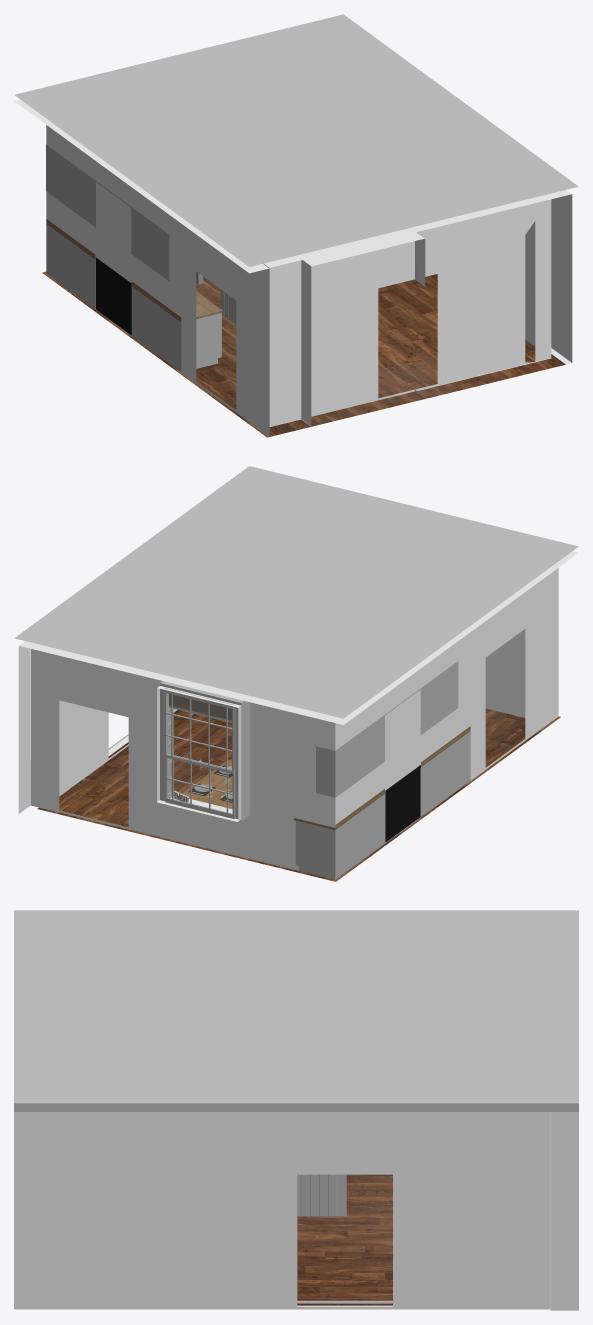
The model's file is big_house_kitchen.glb.
3 views of the same model, one above another, from view 1: azimuth 30°, elevation 25°; view 2: azimuth 150°, elevation 25°; view 3: azimuth 270°, elevation 25° (orthographic). The views are drawn at different scales.
Parts seen in each view (by area): view 1: 126_Ceiling, 127_Walls, 263_Walls, 125_Floor, 253_CupboardUnits, 262_CupboardUnits, 74_CupboardUnits, 70_CupboardUnits, 251_CookerBlack, 259_Worktops; view 2: 126_Ceiling, 263_Walls, 264_Walls, 125_Floor, 127_Walls, 262_CupboardUnits, 74_CupboardUnits, 203_WindowFrame, 218_WindowFrame, 253_CupboardUnits, 70_CupboardUnits, 251_CookerBlack (+2 smaller); view 3: 126_Ceiling, 127_Walls, 125_Floor, 263_Walls, 228_CupboardUnits.
Boxes of the visible parts, bbox=[...] form: 126_Ceiling: bbox=[14, 14, 578, 266]; 127_Walls: bbox=[263, 190, 572, 426]; 263_Walls: bbox=[14, 99, 269, 436]; 125_Floor: bbox=[42, 271, 565, 437]; 253_CupboardUnits: bbox=[131, 287, 221, 371]; 262_CupboardUnits: bbox=[46, 224, 95, 309]; 74_CupboardUnits: bbox=[46, 144, 95, 227]; 70_CupboardUnits: bbox=[131, 207, 169, 280]; 251_CookerBlack: bbox=[96, 260, 131, 335]; 259_Worktops: bbox=[132, 285, 222, 321]; 126_Ceiling: bbox=[14, 466, 578, 718]; 263_Walls: bbox=[18, 551, 578, 858]; 264_Walls: bbox=[30, 649, 335, 870]; 125_Floor: bbox=[37, 708, 560, 881]; 127_Walls: bbox=[59, 629, 525, 796]; 262_CupboardUnits: bbox=[295, 794, 384, 879]; 74_CupboardUnits: bbox=[316, 715, 384, 797]; 203_WindowFrame: bbox=[164, 688, 234, 818]; 218_WindowFrame: bbox=[160, 681, 250, 820]; 253_CupboardUnits: bbox=[421, 731, 470, 816]; 70_CupboardUnits: bbox=[421, 661, 458, 734]; 251_CookerBlack: bbox=[385, 768, 420, 842]; 126_Ceiling: bbox=[14, 910, 578, 1111]; 127_Walls: bbox=[14, 1112, 550, 1309]; 125_Floor: bbox=[297, 1174, 392, 1305]; 263_Walls: bbox=[550, 1112, 578, 1310]; 228_CupboardUnits: bbox=[297, 1174, 346, 1216].
Bounding box in the file's own units: 6.68 × 3.38 × 8.26.
66 materials, 16 textured.
